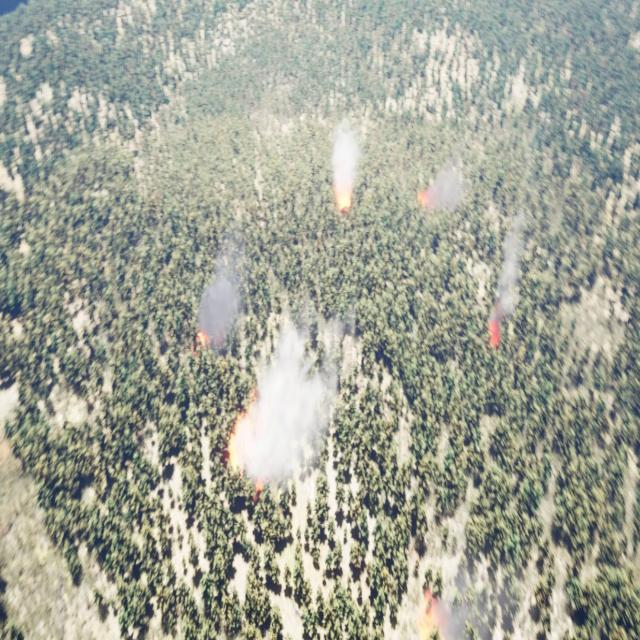fire: (226, 404, 266, 488), (417, 589, 442, 637), (336, 188, 356, 217), (414, 186, 434, 212), (196, 323, 217, 344), (488, 318, 501, 349)
smoke: (232, 310, 346, 516), (190, 238, 248, 354), (408, 579, 486, 639), (499, 212, 532, 325), (334, 116, 366, 197), (430, 163, 465, 224)
